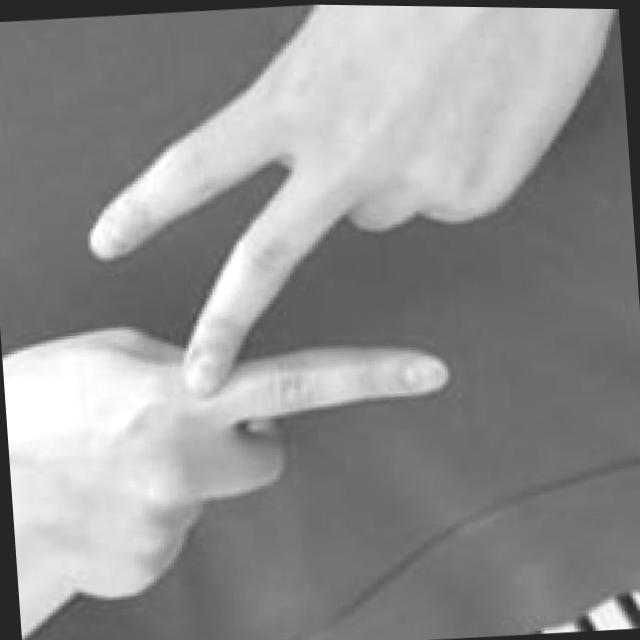Z: (2, 5, 613, 635)
